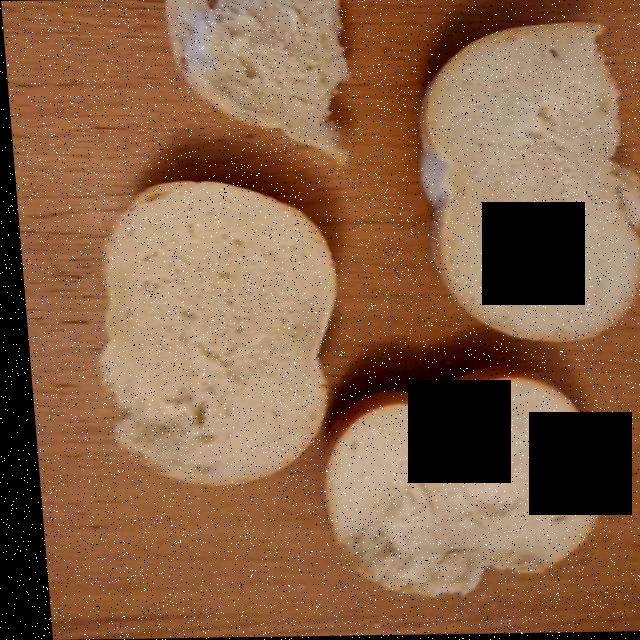bread-white: (75, 0, 640, 598)
